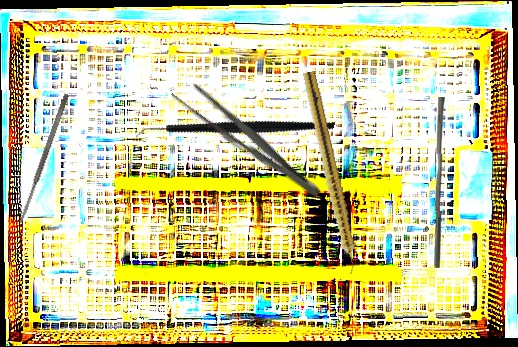Chopper: (133, 60, 337, 203)
Dressing Forceps: (168, 75, 327, 206)
Handpiece: (298, 70, 362, 276)
Pusher: (431, 96, 448, 269)
Spatula Surgical: (16, 92, 71, 225)
